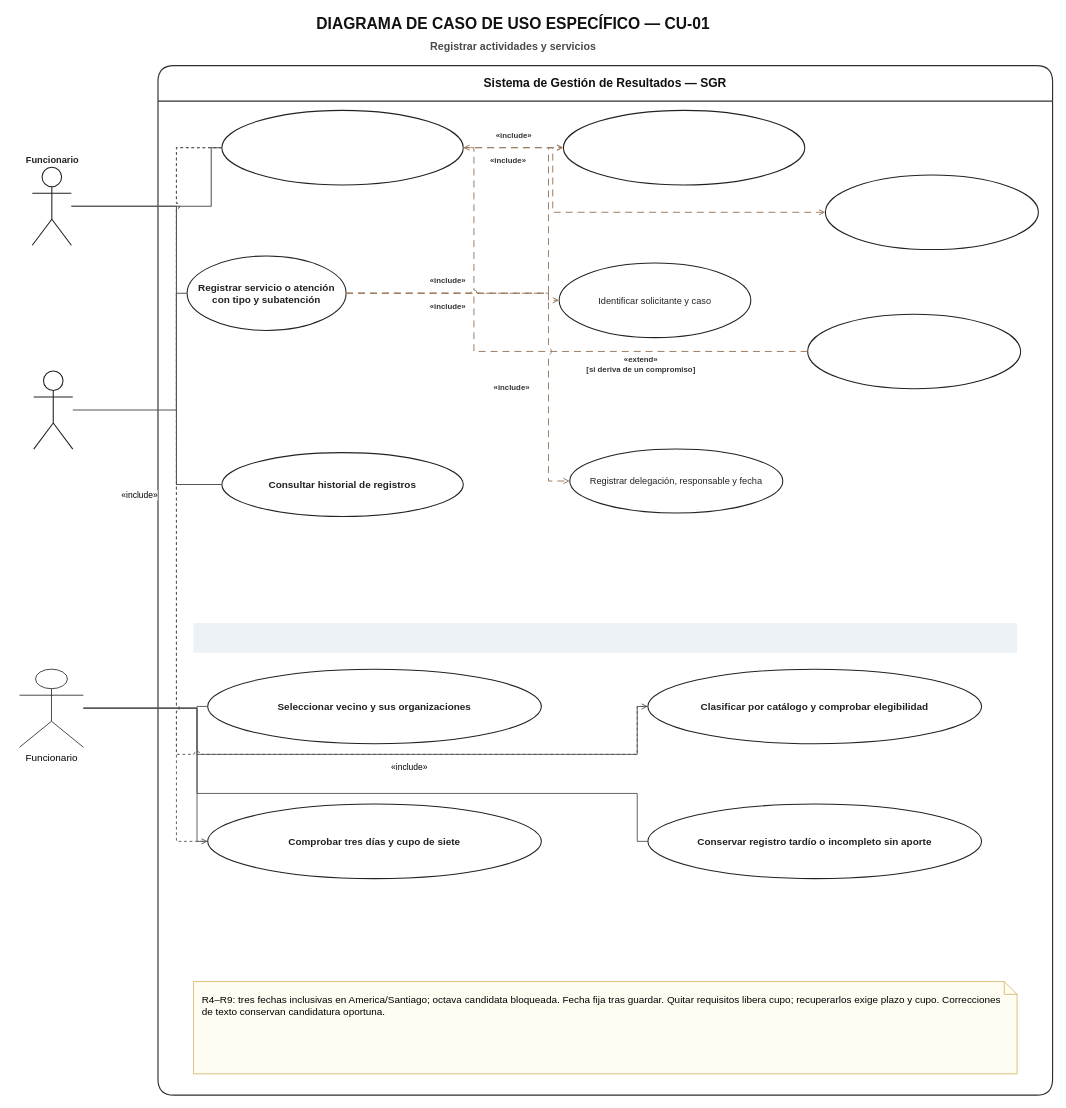
The diagram is 1066 pixels wide and 1108 high, and some of its shapes have lost their labels. Each missing label, with the centre of its shape:
Ampliación del caso · implementación contrastada 23/10/2026: the point at 605,637
Asociar actividad con indicador: the point at 932,212
Funcionario social o territorial: the point at 53,409
Registrar actividad diaria: the point at 342,147
Validar datos y catálogos del registro: the point at 684,147
Vincular con compromiso de agenda: the point at 914,351
